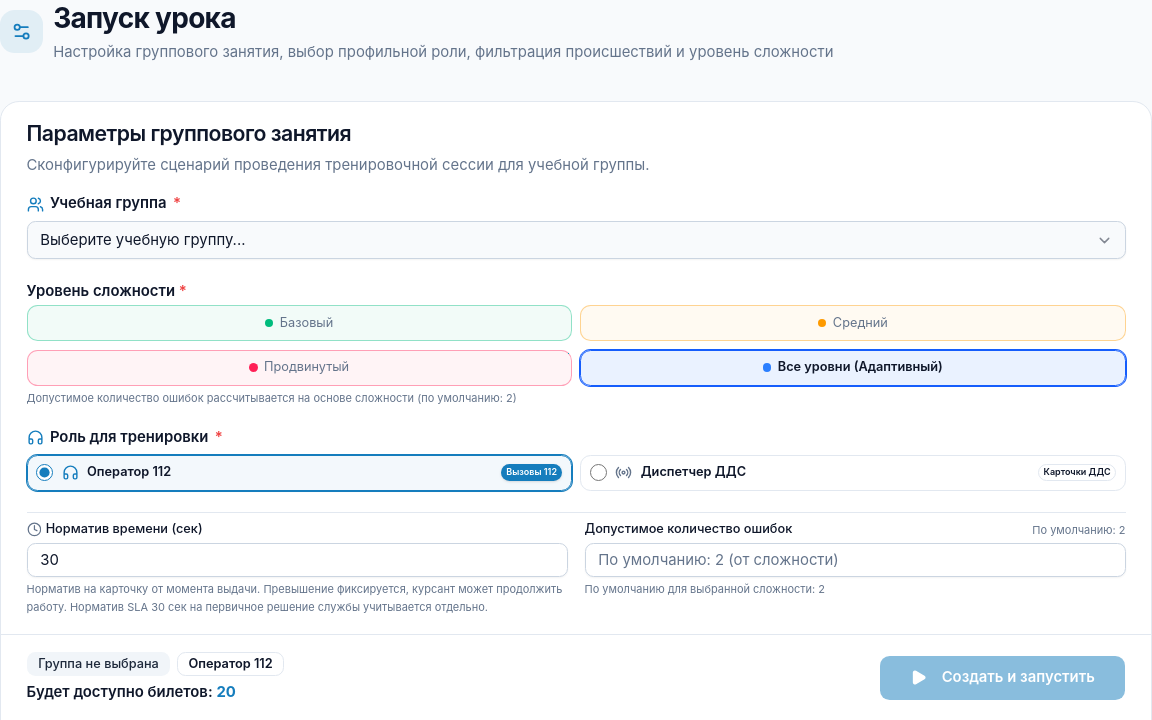
Scenario: ТЗ 41: Запуск урока (Создание сессии) - Настройка и UI › blocks DDS lesson creation when the approved ticket catalog is empty
Select "Группа 101 (Отделение связи) (2 чел.)" in the dropdown named "Выбор Группы": (576, 240) [26,221,1126,259]
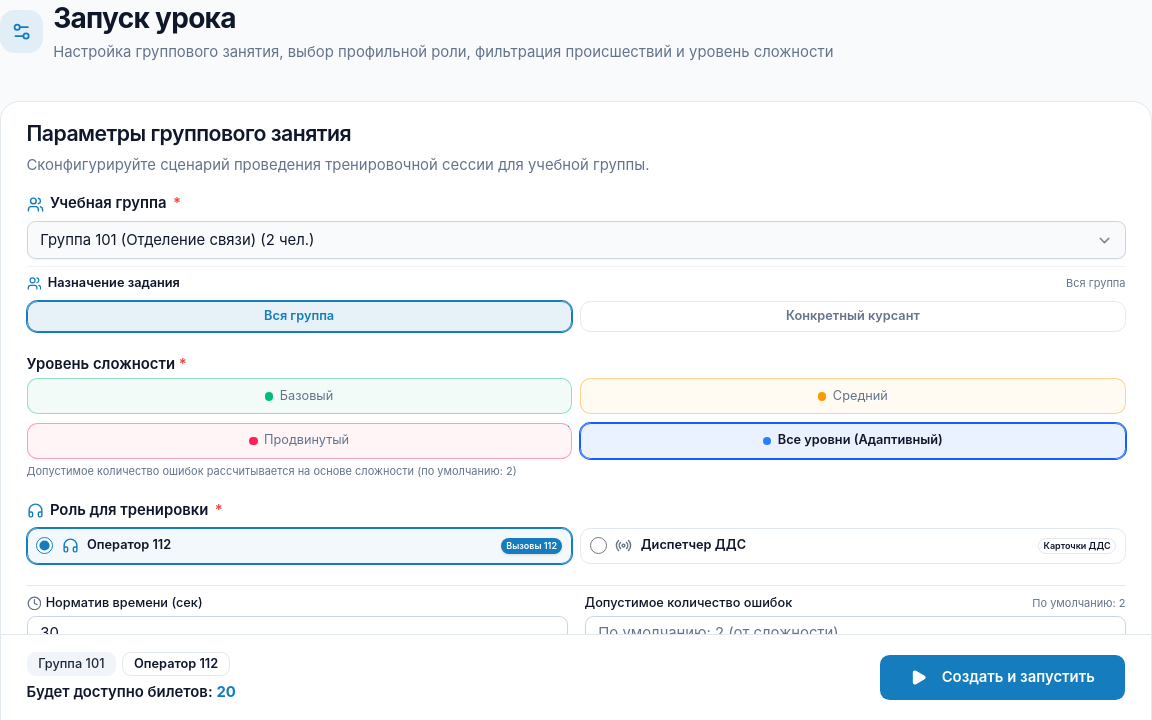
Click the radio button labelled "Диспетчер ДДС Карточки ДДС": (598, 546) [590,537,607,554]
(page scrolled)
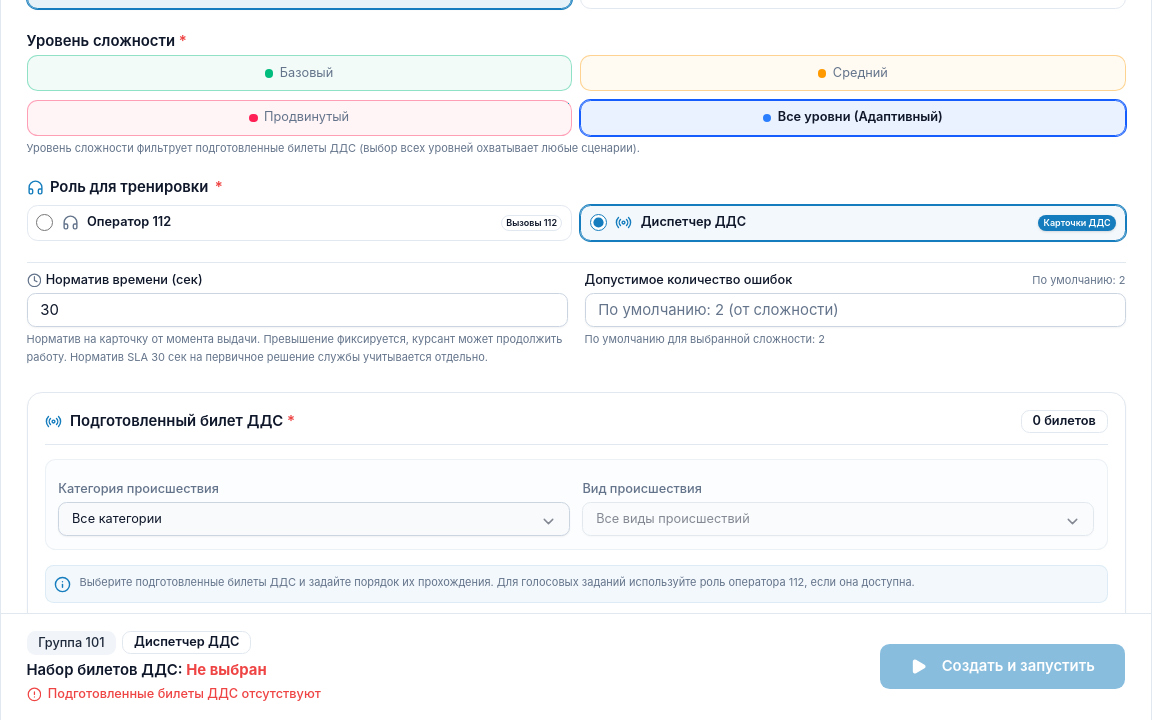
Expected: the button "Создать и запустить" is disabled, [879,644,1126,690]
Submit the form named "Создать и запустить"
(page scrolled)
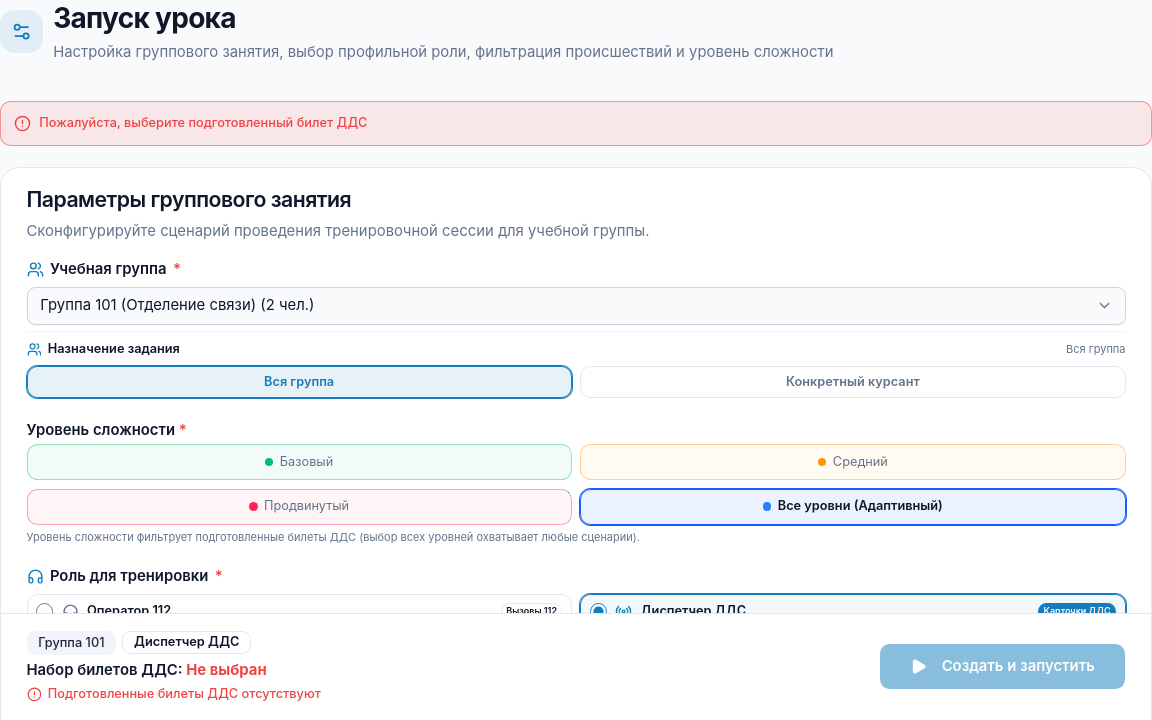
Expected: the text "Пожалуйста, выберите подготовленный билет ДДС" is shown, [39,115,367,132]
